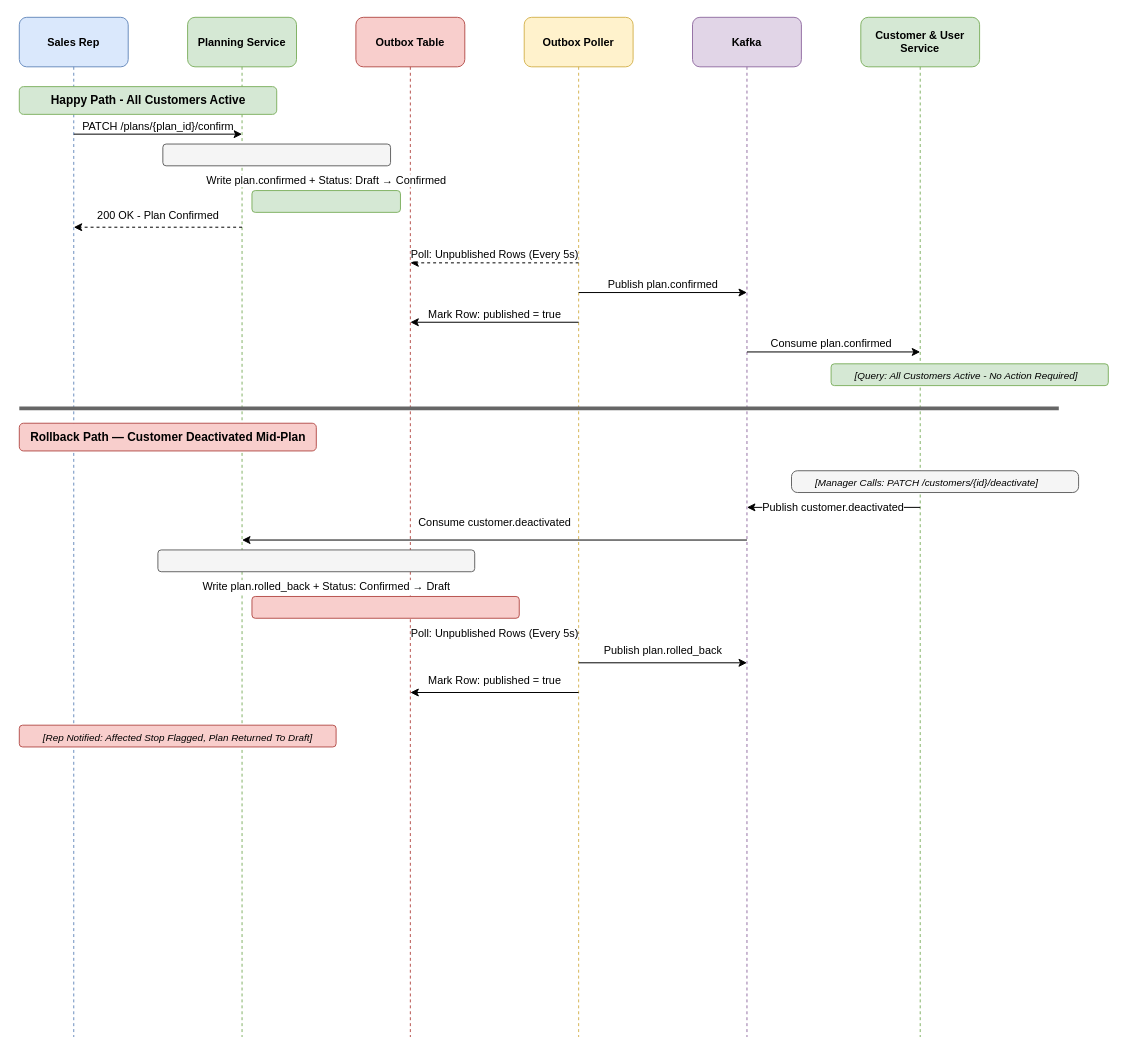
Some shapes in this 1126 by 1055 pixel diagram are drawn without their labels. Here are the shapes that lost their labels. From the top down, the centre of each, then its label:
At pixel 276 154: "[Validate: At Least One Visit Or Call]".
At pixel 325 201: "[Same DB Transaction]".
At pixel 316 560: "[Query: Confirmed Or Active Plans Containing customer_id]".
At pixel 385 606: "[Same DB Transaction — Compensating Action]".
